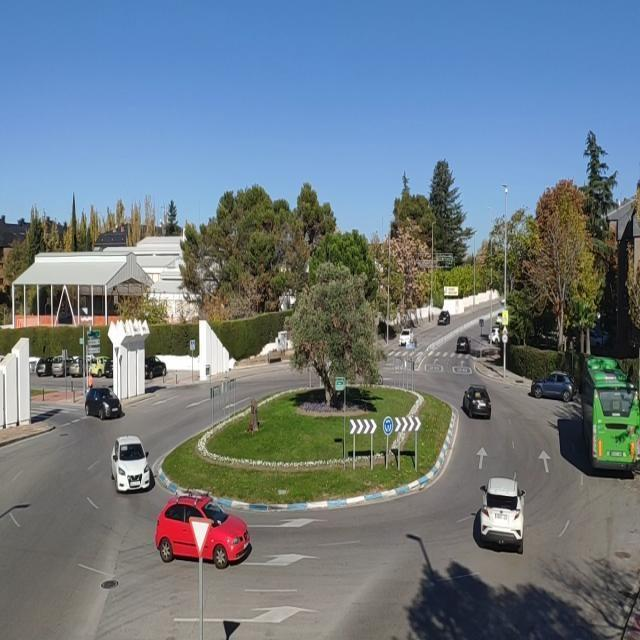Bus: (580, 354, 640, 472)
Car: (154, 488, 251, 570), (479, 477, 527, 554), (110, 435, 152, 494), (530, 371, 578, 401), (85, 386, 122, 421), (462, 384, 492, 419), (68, 355, 95, 378), (144, 356, 168, 380), (51, 354, 75, 378), (88, 356, 112, 378), (36, 357, 56, 377), (590, 328, 610, 348), (398, 328, 414, 346), (456, 336, 471, 354), (490, 326, 503, 346), (437, 310, 451, 326), (496, 312, 502, 324)
